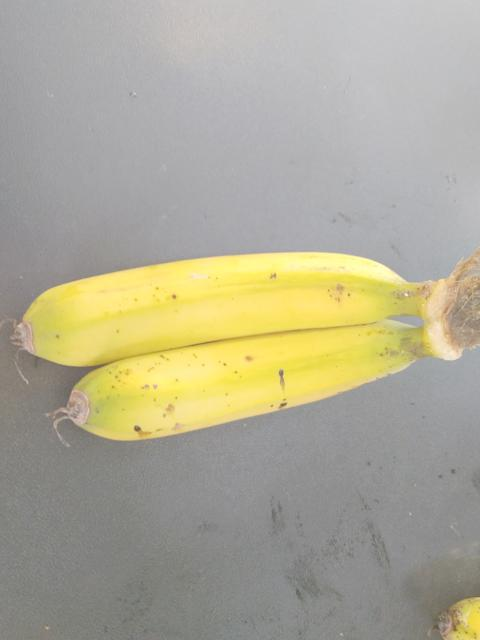freshripe: (0, 233, 426, 360)
ripe: (54, 309, 434, 451)
